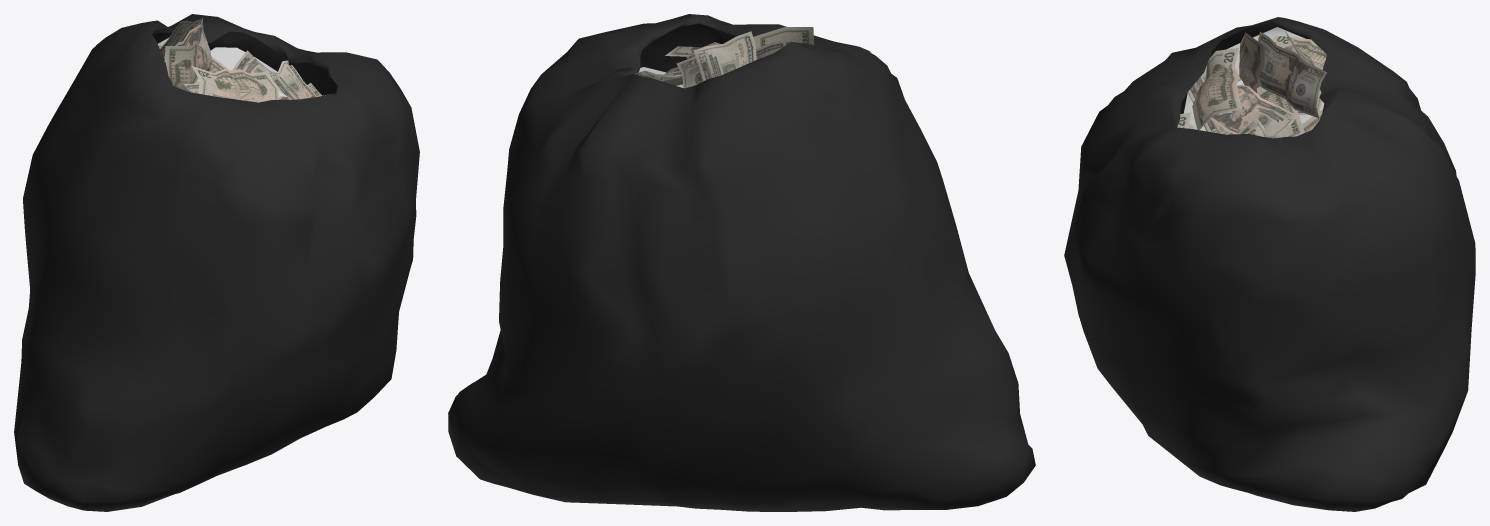
3 views of the same model, side by side, from view 1: azimuth 30°, elevation 25°; view 2: azimuth 150°, elevation 25°; view 3: azimuth 270°, elevation 25° (orthographic). The views are drawn at different scales.
Parts seen in each view (by area): view 1: Cash Sack _binbag2_0, Cash Sack _20_dollar_0, Cash Sack _cash_pile_0; view 2: Cash Sack _binbag2_0, Cash Sack _20_dollar_0; view 3: Cash Sack _binbag2_0, Cash Sack _20_dollar_0, Cash Sack _cash_pile_0.
Part boxes in pixels (<box>): Cash Sack _binbag2_0: <box>14,14,419,511</box>; Cash Sack _20_dollar_0: <box>157,17,321,102</box>; Cash Sack _cash_pile_0: <box>198,47,330,96</box>; Cash Sack _binbag2_0: <box>448,14,1035,511</box>; Cash Sack _20_dollar_0: <box>634,27,814,88</box>; Cash Sack _binbag2_0: <box>1064,17,1475,511</box>; Cash Sack _20_dollar_0: <box>1177,30,1327,138</box>; Cash Sack _cash_pile_0: <box>1183,27,1324,131</box>.
Bounding box in the file's own units: 0.6758 × 0.606 × 0.5786.
